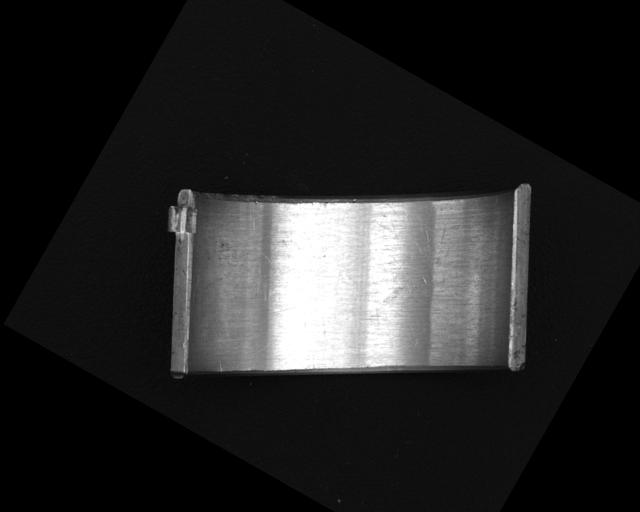nick: (212, 357, 226, 372)
